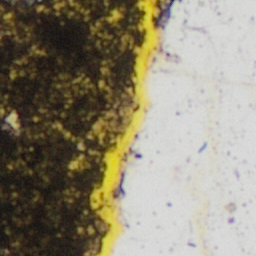cement_matrix: (0, 0, 143, 255), (157, 0, 169, 21), (7, 114, 17, 127), (95, 123, 103, 133), (111, 12, 118, 19), (74, 161, 79, 165)
cracks: (91, 0, 178, 255)
gravel_crushed_stones: (107, 0, 255, 255), (8, 115, 16, 126), (96, 124, 102, 132), (112, 13, 117, 18), (75, 162, 78, 164)
